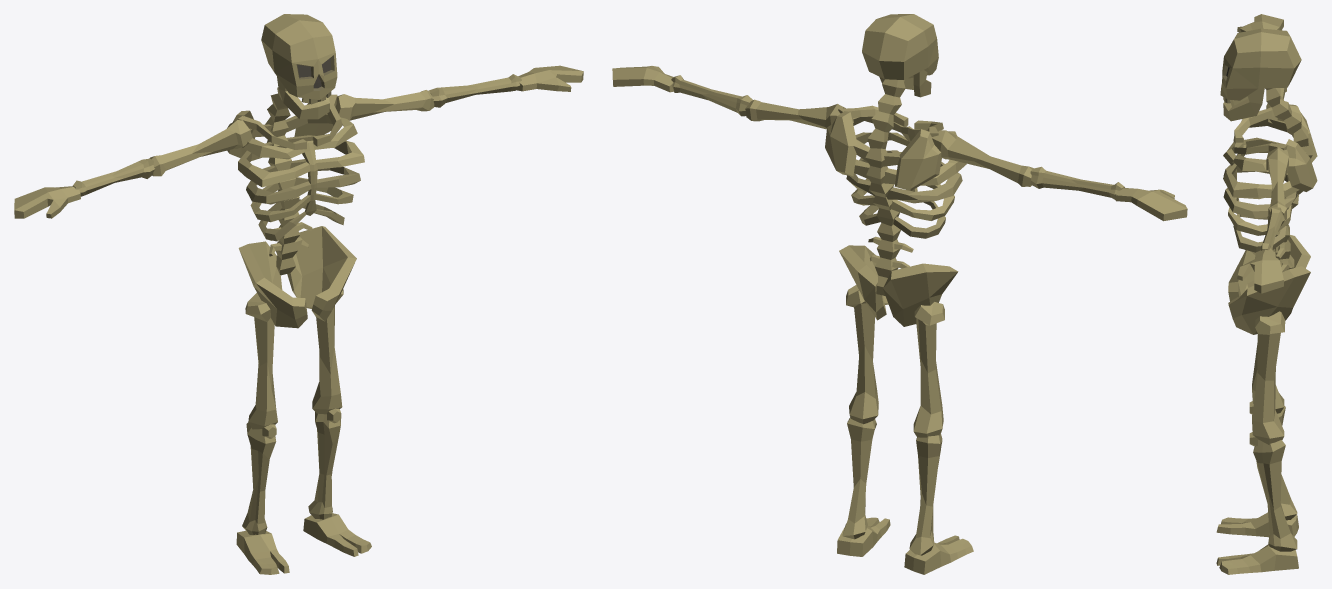
Rendered from Sceleton_1.fbx.
The picture shows the model from 3 angles, left to right: view 1: azimuth 30°, elevation 25°; view 2: azimuth 150°, elevation 25°; view 3: azimuth 270°, elevation 25°; orthographic projection. The views are drawn at different scales.
Visible parts, largest first — view 1: Sceleton_1; view 2: Sceleton_1; view 3: Sceleton_1.
Part boxes in pixels (x1,y1,x2,y2): Sceleton_1: (14, 14, 583, 574); Sceleton_1: (612, 14, 1187, 574); Sceleton_1: (1216, 14, 1317, 574).
Bounding box in the file's own units: 197 × 175 × 31.
